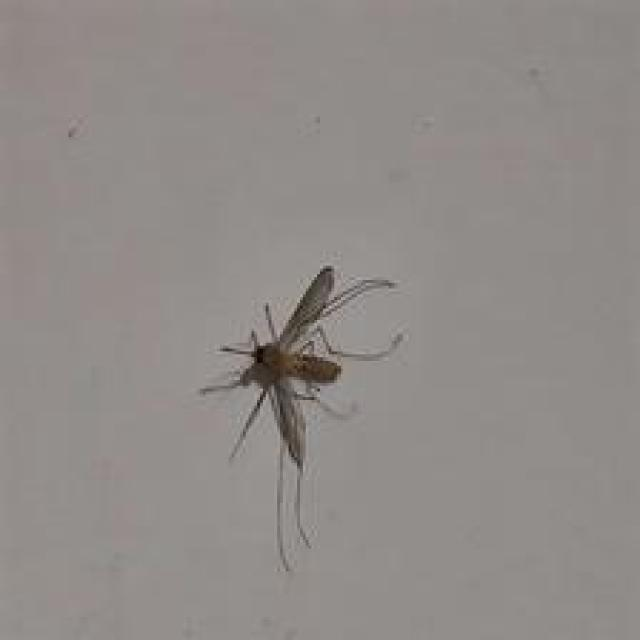Culex: (197, 263, 406, 571)
